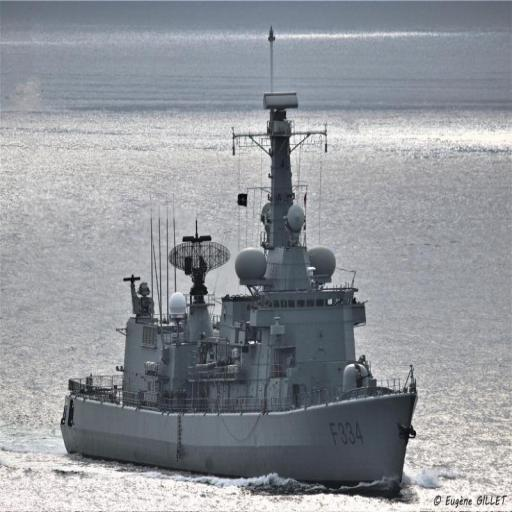Fragata: (59, 21, 418, 492)
